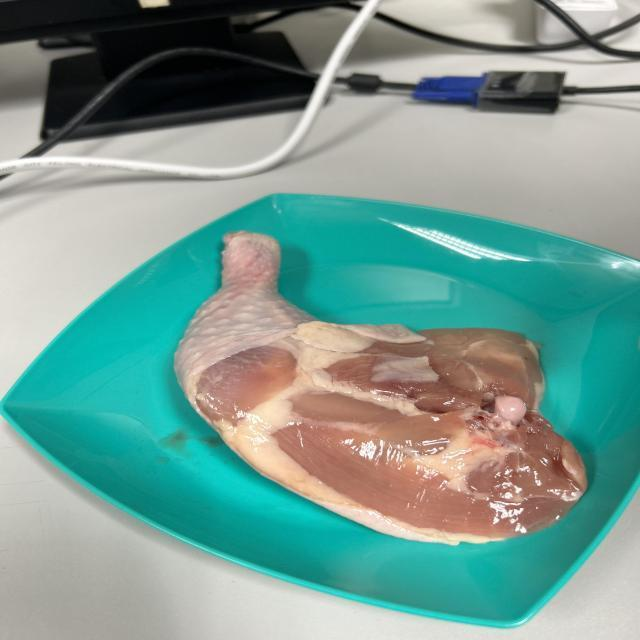quater: (182, 230, 564, 526)
